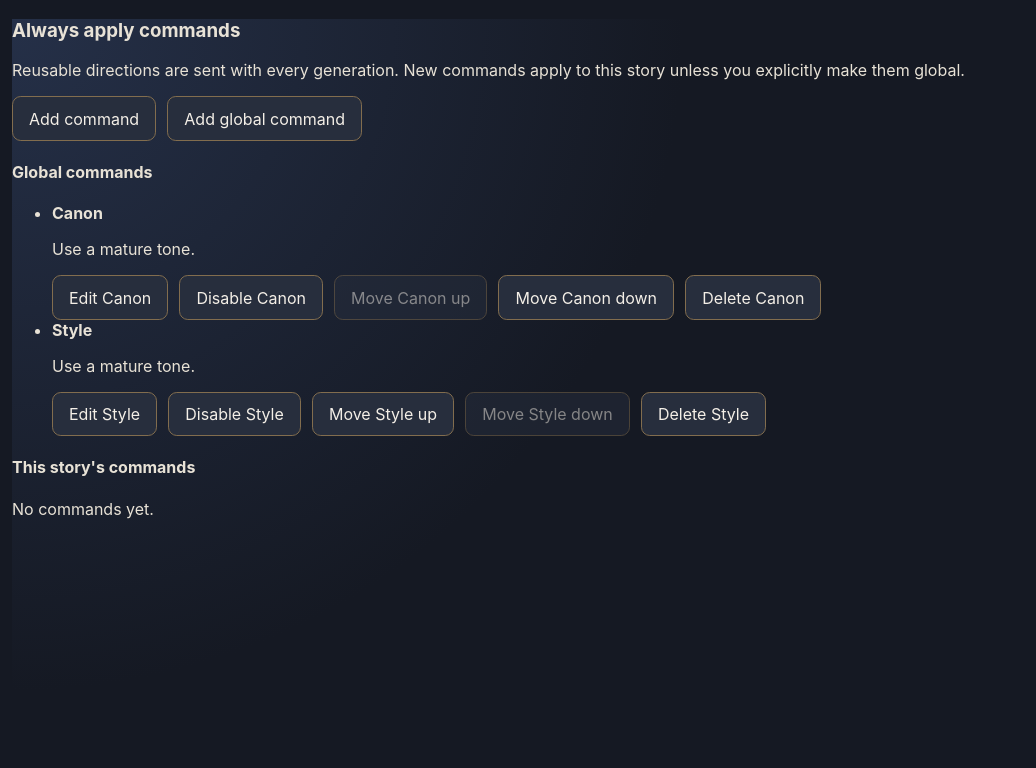
Test case: CommandManager › reloads once after a rejected reorder while retaining the mutation error
What coordinates should you click on to do the following:
click the button "Move Style up"
I would click on:
 (383, 414)
Its box is [312, 392, 454, 436].
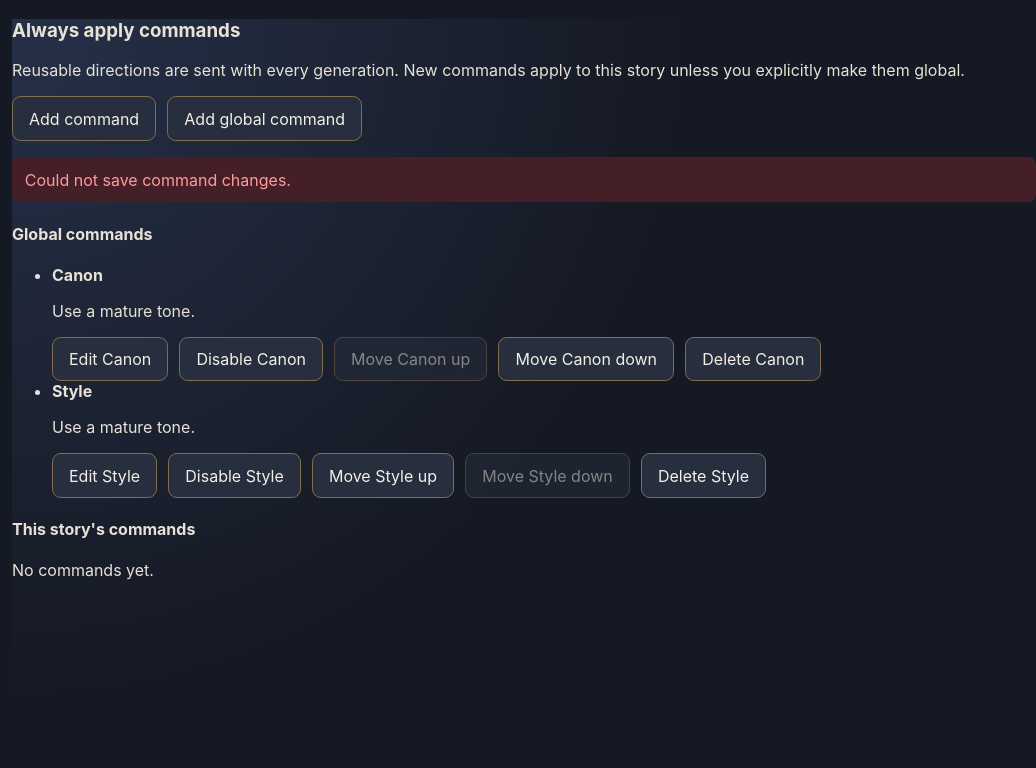
Expected: the message reads "Could not save command changes.", [25, 170, 291, 190]
